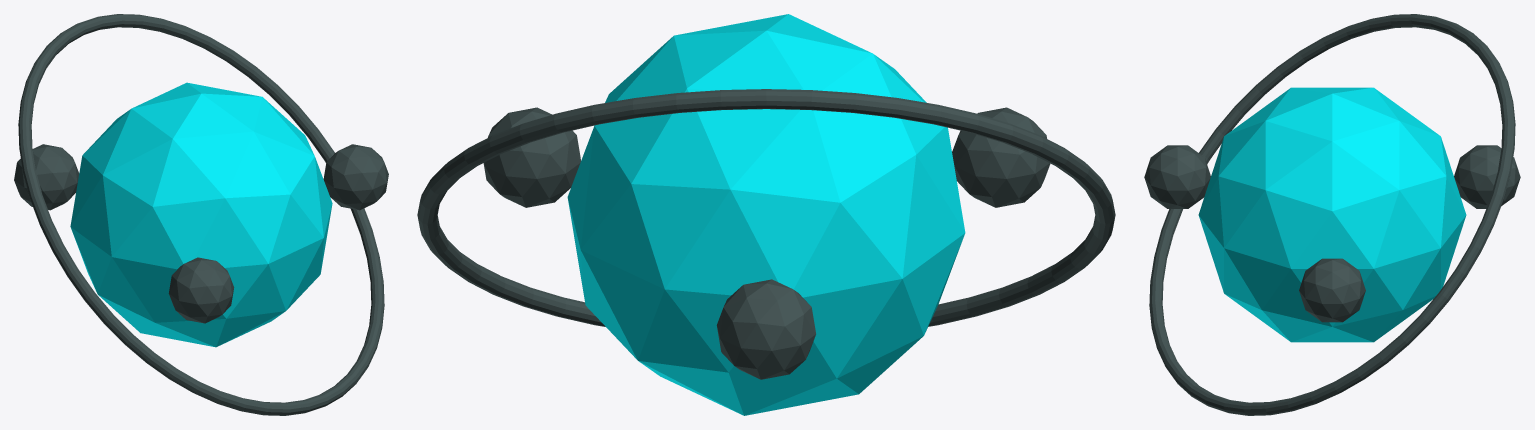
The model's file is rtk_tdd.glb.
3 renders of one model, left to right at view 1: azimuth 30°, elevation 25°; view 2: azimuth 150°, elevation 25°; view 3: azimuth 270°, elevation 25°, orthographic. The views are drawn at different scales.
Parts seen in each view (by area): view 1: primary, accent_ring, accent_2, accent_0, accent_1; view 2: primary, accent_ring, accent_1, accent_0, accent_2; view 3: primary, accent_ring, accent_0, accent_2, accent_1.
Part boxes in pixels (<box>): primary: <box>70,82,332,347</box>; accent_ring: <box>18,14,384,415</box>; accent_2: <box>168,257,234,323</box>; accent_0: <box>323,144,388,210</box>; accent_1: <box>14,144,79,210</box>; primary: <box>567,14,965,415</box>; accent_ring: <box>417,89,1115,326</box>; accent_1: <box>716,279,815,379</box>; accent_0: <box>483,107,580,207</box>; accent_2: <box>952,107,1050,207</box>; primary: <box>1198,87,1466,342</box>; accent_ring: <box>1149,14,1515,415</box>; accent_0: <box>1299,258,1365,322</box>; accent_2: <box>1144,145,1210,208</box>; accent_1: <box>1454,145,1520,208</box>.
Size of the model in its own units: 0.193 by 0.1472 by 0.1686.
